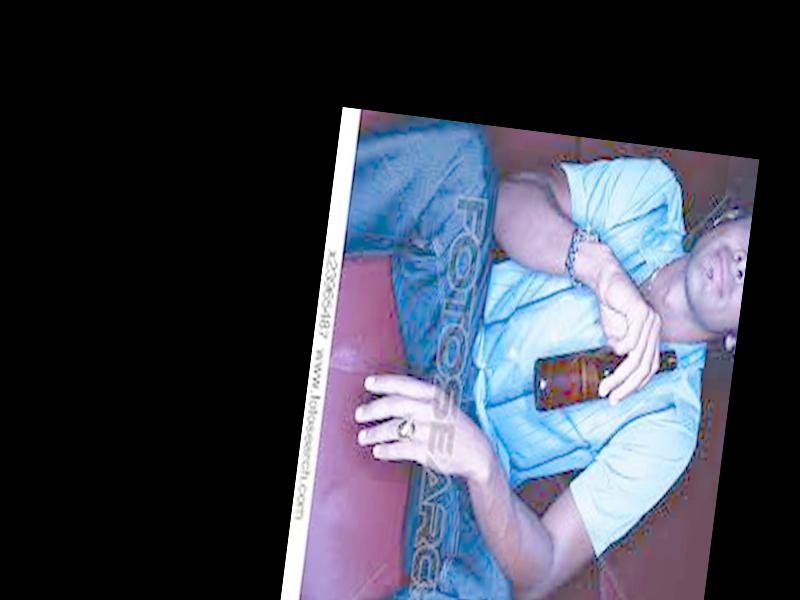Beer: (529, 332, 679, 430)
